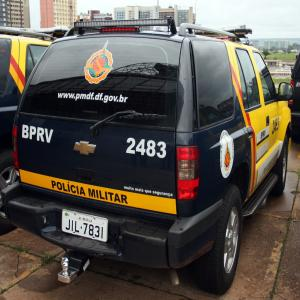Vehicle-registration-plate: (61, 211, 109, 243)
